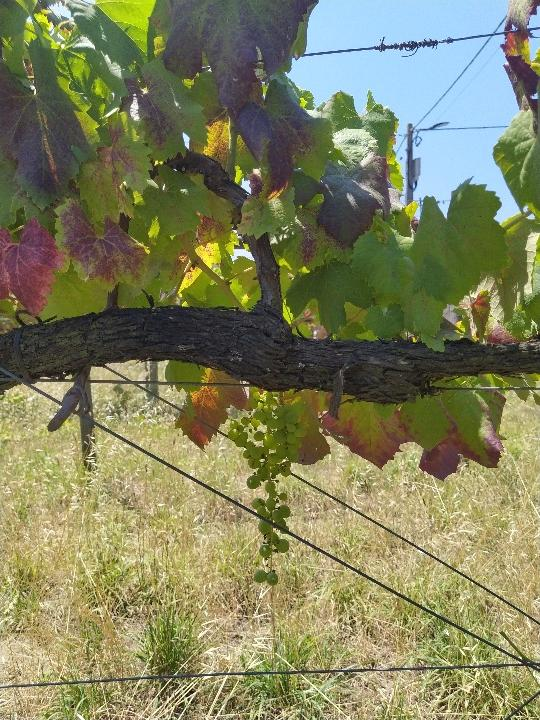grape: (223, 389, 308, 592)
